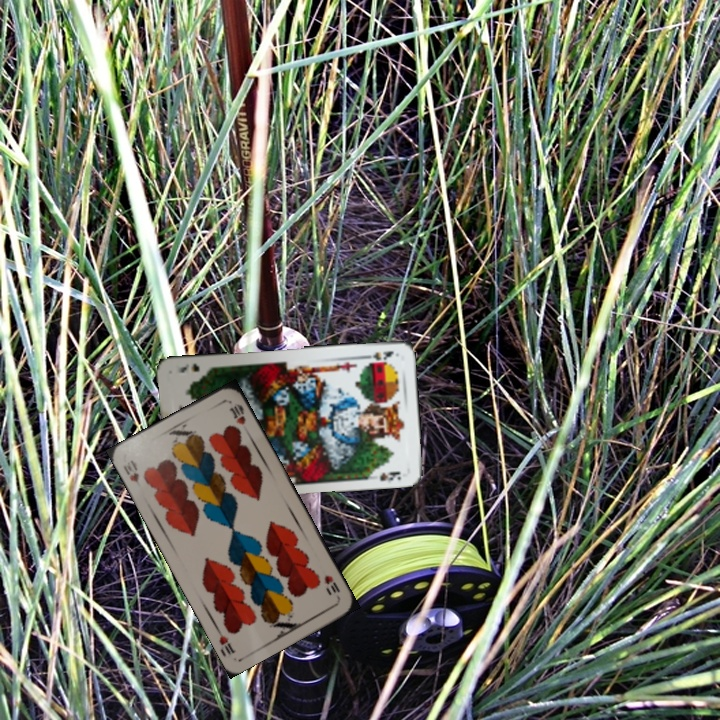H10: (119, 456, 142, 490), (320, 571, 342, 601)
SK: (358, 347, 396, 362)
